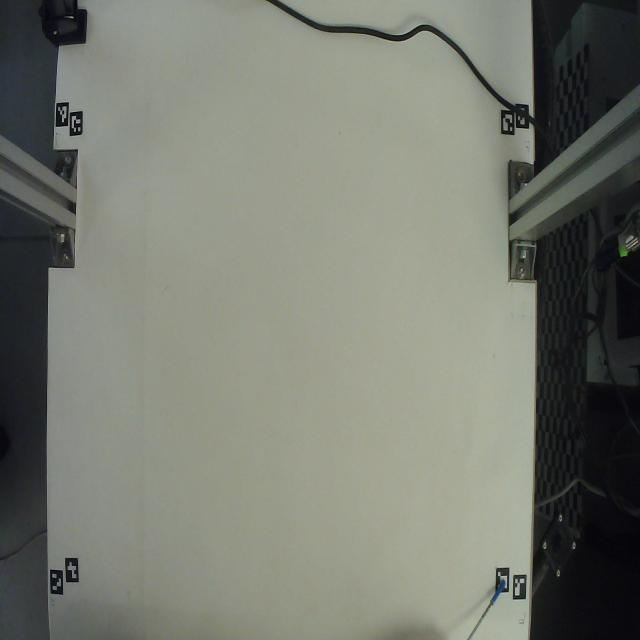Pres: (447, 540, 517, 640)
